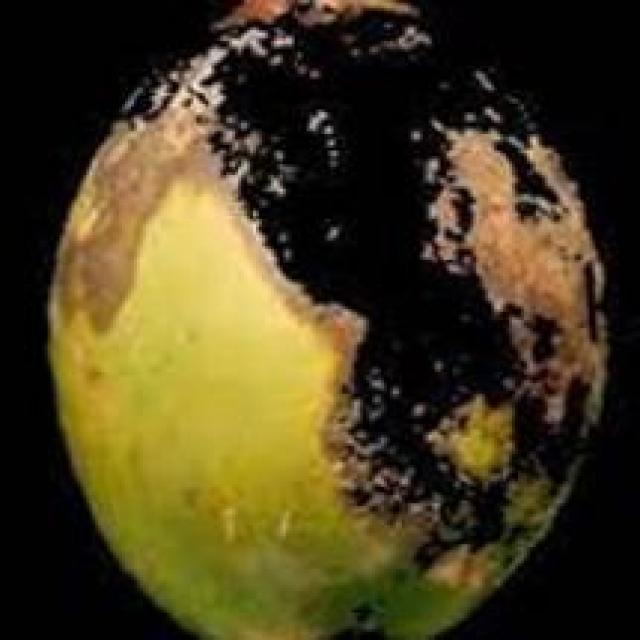damaged: (45, 0, 628, 637)
